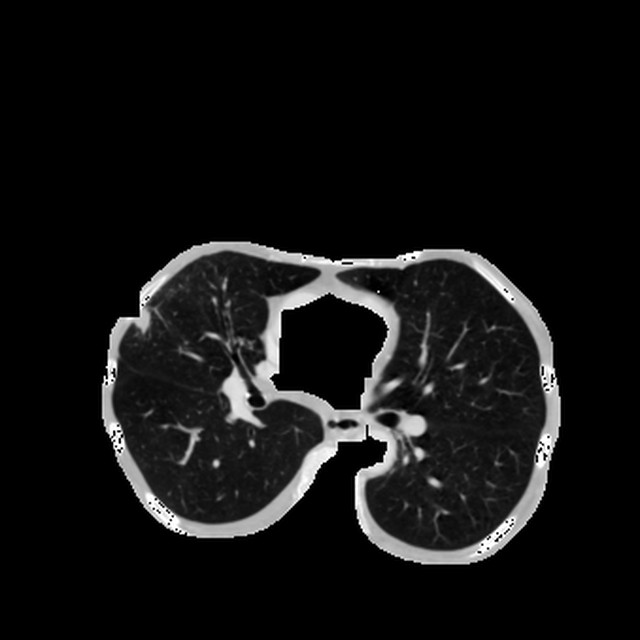PN: (130, 306, 153, 328)
